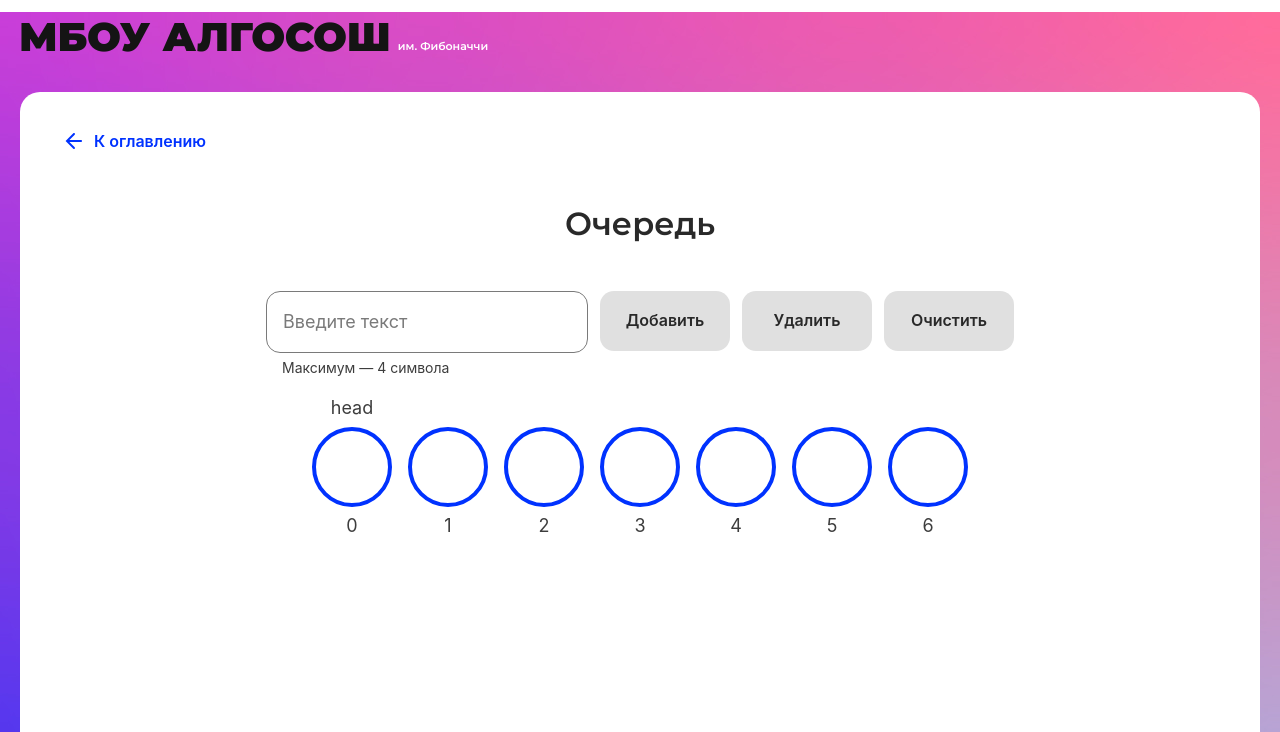
Test: Страница очереди › правильное добавление элемента в очередь
Type "I1" into the field with placeholder "Введите текст".
click(427, 322); type("I1")  # box [266,291,588,353]
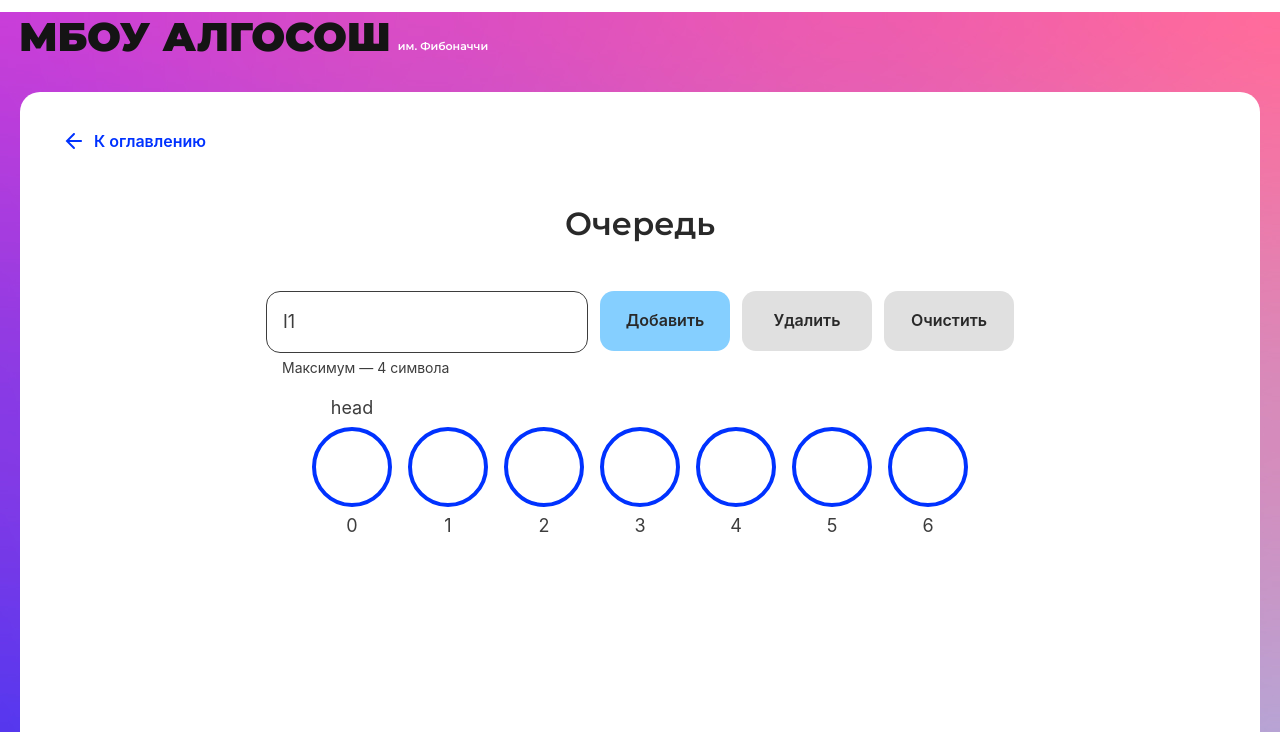
Click the button "Добавить".
click(665, 321)  # box [600,291,730,351]
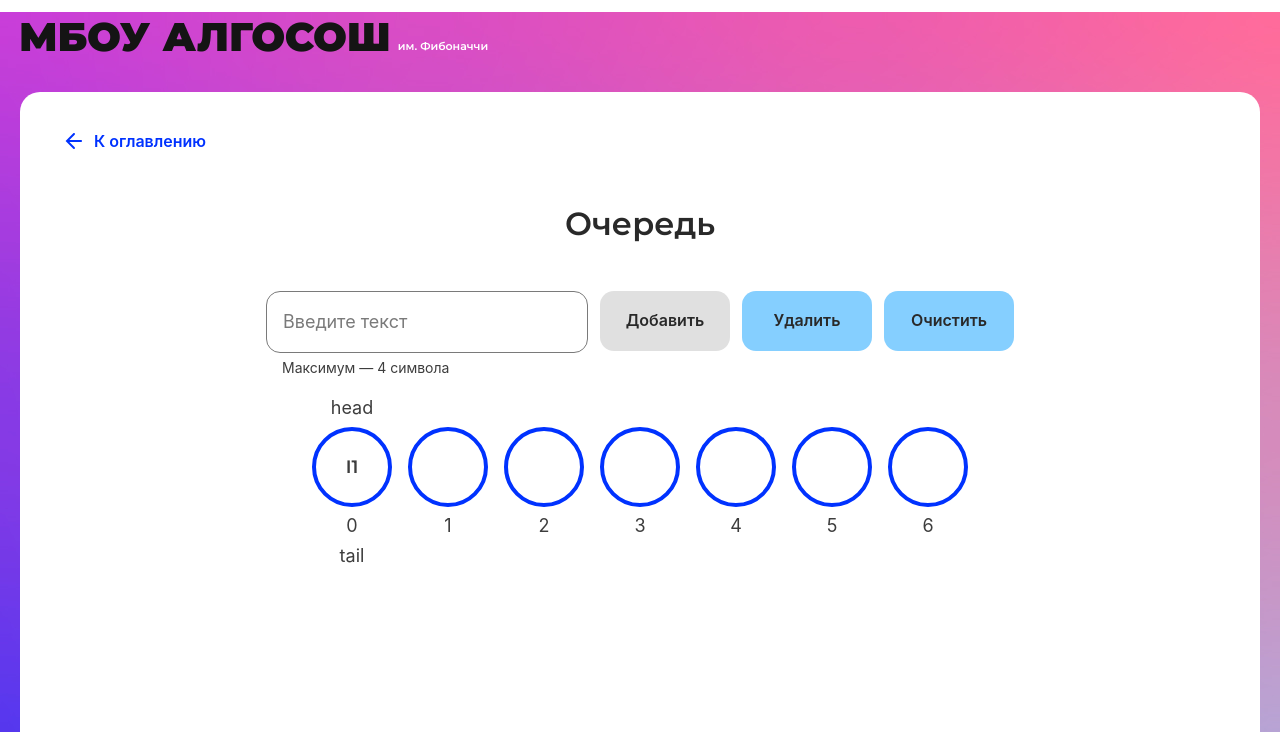
Check: the element showing "head I1 0 tail" is shown, box [312,427,392,507]
